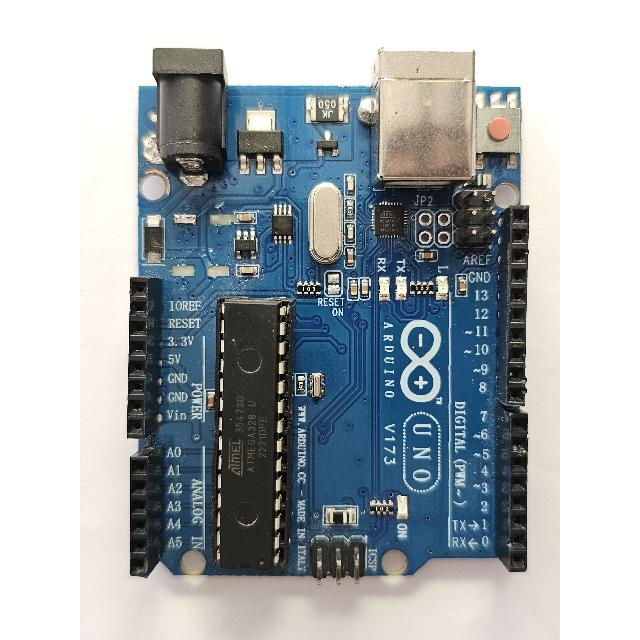missing_capacitors: (169, 196, 236, 287)
